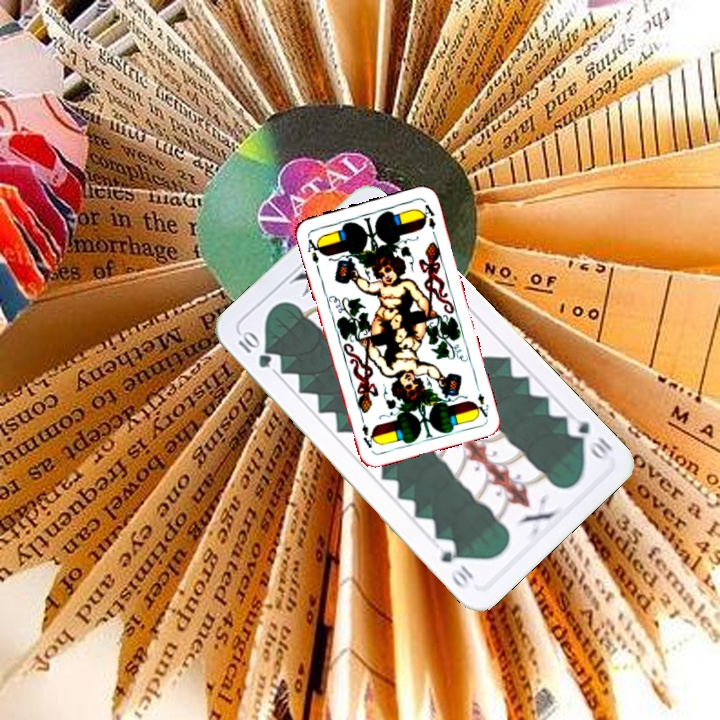EA: (303, 232, 324, 266), (470, 389, 491, 420)
G10: (562, 412, 615, 464), (234, 327, 275, 371)
